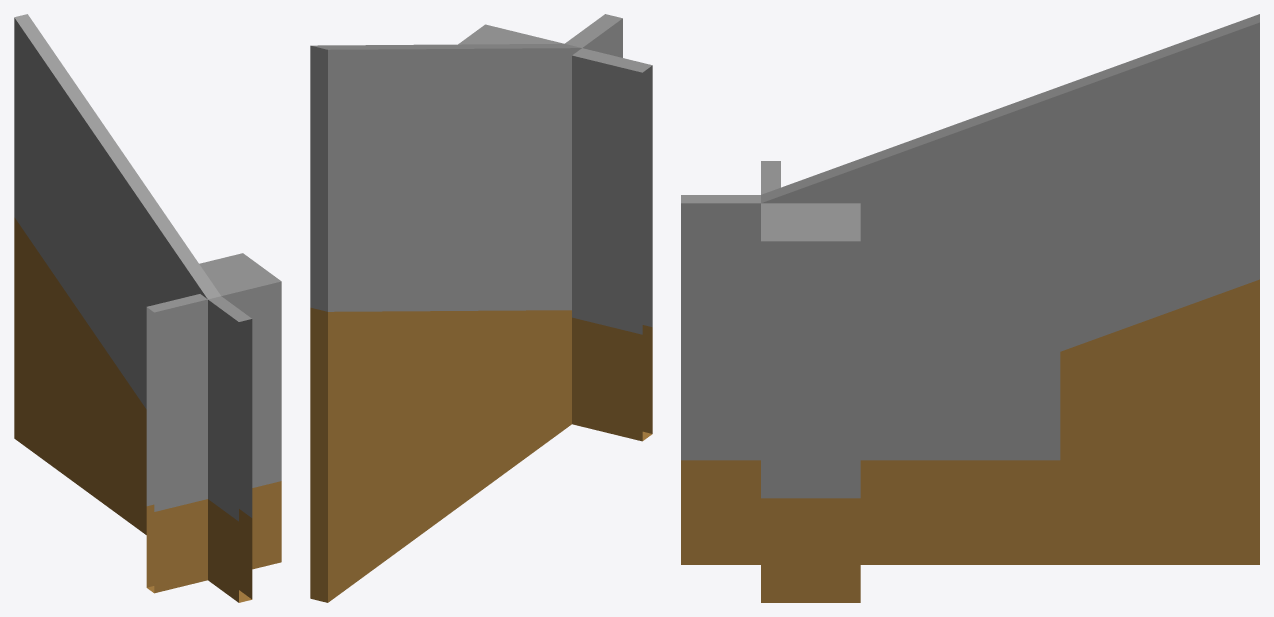
Rendered from SM_Woll_Set1_WB.fbx.
The picture shows the model from 3 angles, left to right: view 1: azimuth 30°, elevation 25°; view 2: azimuth 150°, elevation 25°; view 3: azimuth 270°, elevation 25°; orthographic projection. The views are drawn at different scales.
Parts seen in each view (by area): view 1: SM_WallSteirs, SM_Wall_T, SM_Wall_L, SM_Wall_Stolb, SM_Wall_Win_3x4; view 2: SM_WallSteirs, SM_Wall_T, SM_Wall_Stolb, SM_Wall_Win_3x4; view 3: SM_WallSteirs, SM_Wall_3x4, SM_Wall_Stolb, SM_Wall_T, SM_Wall_L.
Part boxes in pixels (bbox=[...]): SM_WallSteirs: bbox=[14, 14, 220, 530]; SM_Wall_T: bbox=[146, 294, 252, 602]; SM_Wall_L: bbox=[217, 255, 274, 567]; SM_Wall_Stolb: bbox=[199, 253, 281, 569]; SM_Wall_Win_3x4: bbox=[91, 487, 146, 534]; SM_WallSteirs: bbox=[310, 43, 581, 602]; SM_Wall_T: bbox=[565, 14, 652, 441]; SM_Wall_Stolb: bbox=[458, 24, 562, 44]; SM_Wall_Win_3x4: bbox=[429, 422, 571, 527]; SM_WallSteirs: bbox=[761, 14, 1259, 564]; SM_Wall_3x4: bbox=[860, 203, 1060, 517]; SM_Wall_Stolb: bbox=[761, 203, 860, 602]; SM_Wall_T: bbox=[681, 161, 780, 564]; SM_Wall_L: bbox=[761, 203, 860, 236].
Size of the model in its own units: 190 by 600 by 580.
